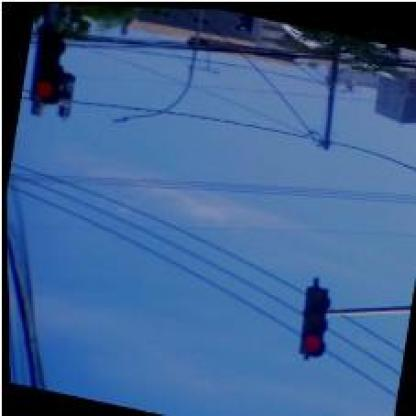red: (22, 25, 66, 107), (293, 281, 334, 358)
